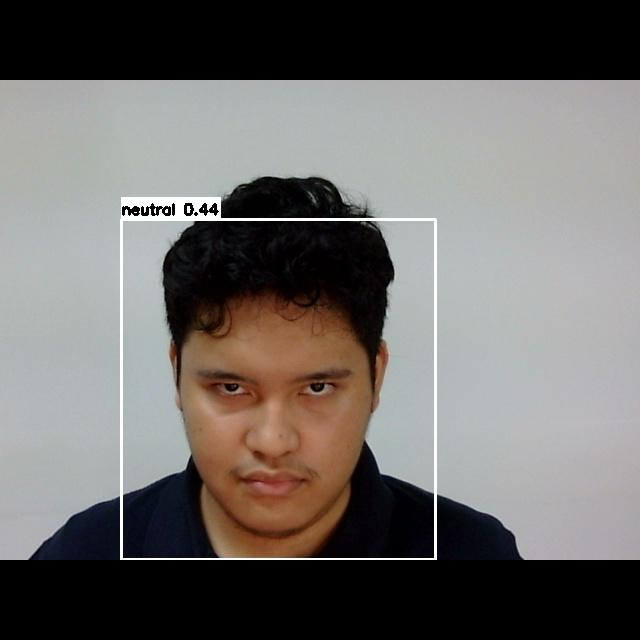Angry: (176, 340, 371, 519)
